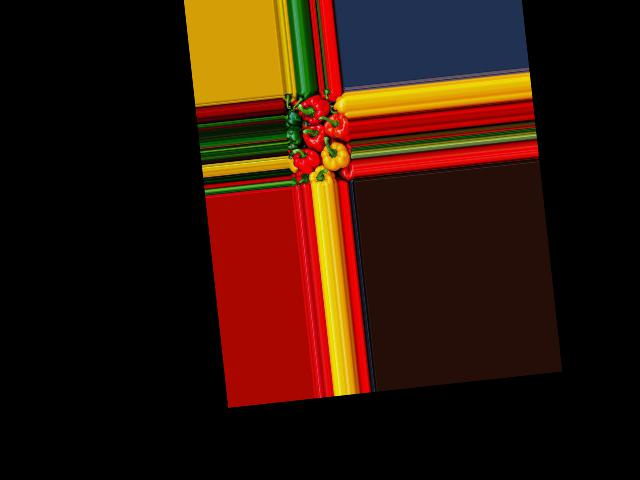bell_pepper: (333, 95, 348, 113)
